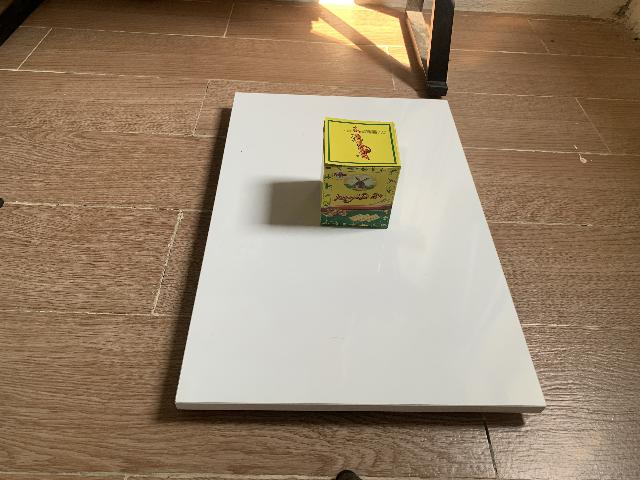luong_kho: (320, 117, 401, 230)
